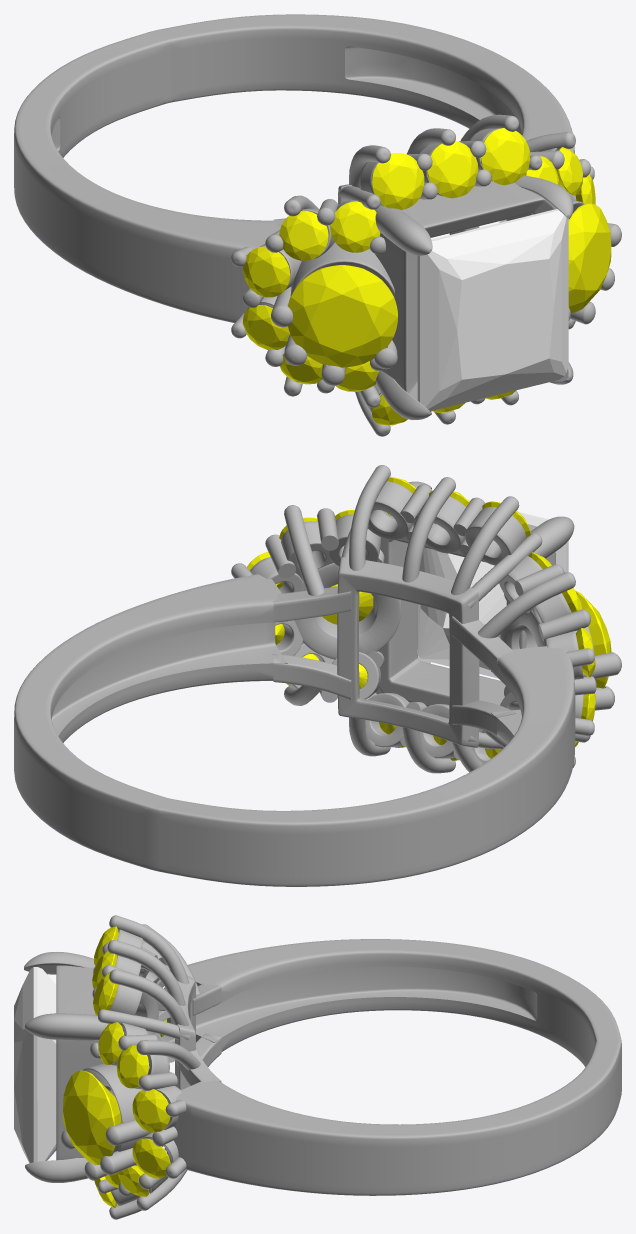
The picture shows the model from 3 angles, top to bottom: view 1: azimuth 30°, elevation 25°; view 2: azimuth 150°, elevation 25°; view 3: azimuth 270°, elevation 25°; orthographic projection. The views are drawn at different scales.
Parts seen in each view (by area): view 1: 预设值, bavlo gems, gem, IGES level 0; view 2: 预设值, IGES level 0, bavlo gems, gem; view 3: 预设值, bavlo gems, gem, IGES level 0.
Part boxes in pixels (bbox=[...]): 预设值: bbox=[14, 14, 621, 436]; bavlo gems: bbox=[242, 128, 611, 425]; gem: bbox=[417, 209, 568, 411]; IGES level 0: bbox=[375, 175, 573, 400]; 预设值: bbox=[14, 465, 621, 886]; IGES level 0: bbox=[373, 481, 574, 706]; bavlo gems: bbox=[247, 477, 611, 760]; gem: bbox=[417, 499, 568, 678]; 预设值: bbox=[25, 915, 621, 1219]; bavlo gems: bbox=[63, 926, 170, 1208]; gem: bbox=[14, 967, 56, 1163]; IGES level 0: bbox=[24, 952, 113, 1160].
Size of the model in its own units: 0.0194 by 0.0115 by 0.025.
Materials: 23 (20 with a texture image).
